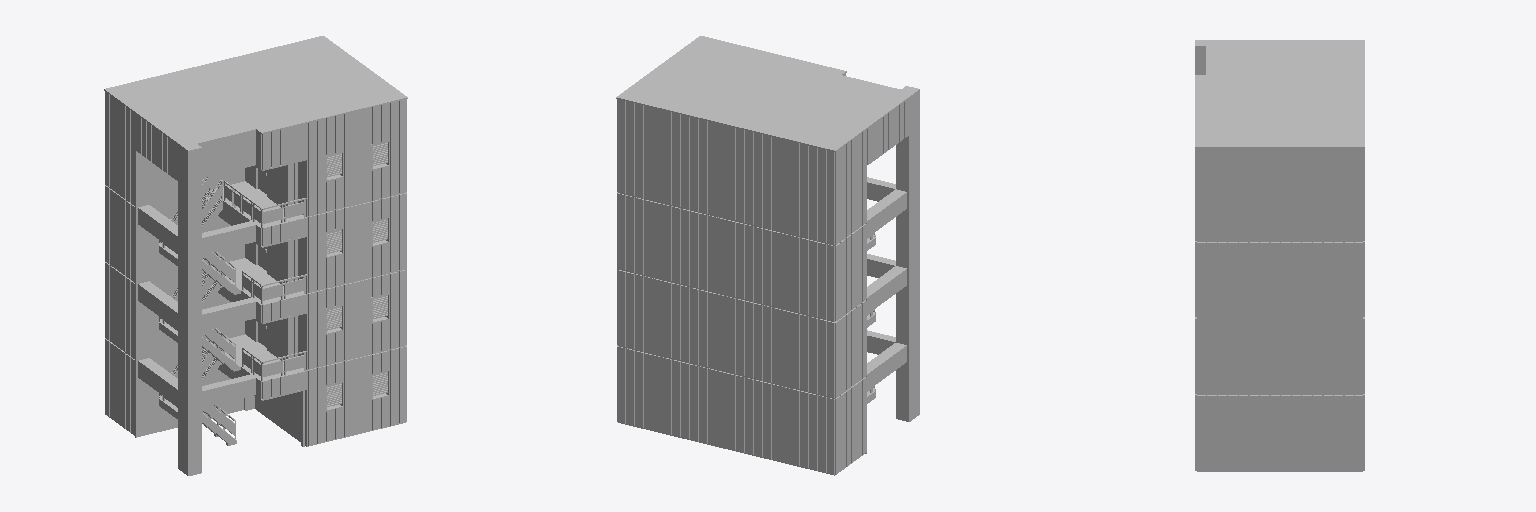
Rendered from villa_4floor.obj.
3 views of the same model, side by side, from view 1: azimuth 30°, elevation 25°; view 2: azimuth 150°, elevation 25°; view 3: azimuth 270°, elevation 25° (orthographic).
Visible parts, largest first — view 1: minecraft_concrete_silver_-1, minecraft_concrete_black_-1, minecraft_glass_white_-1, minecraft_concrete_gray_-1; view 2: minecraft_concrete_silver_-1, minecraft_concrete_black_-1; view 3: minecraft_concrete_silver_-1, minecraft_concrete_black_-1.
Boxes of the visible parts, x1=… form: minecraft_concrete_silver_-1: x1=105, y1=91, x2=406, y2=475; minecraft_concrete_black_-1: x1=104, y1=36, x2=407, y2=445; minecraft_glass_white_-1: x1=174, y1=177, x2=303, y2=433; minecraft_concrete_gray_-1: x1=202, y1=169, x2=266, y2=413; minecraft_concrete_silver_-1: x1=617, y1=73, x2=919, y2=475; minecraft_concrete_black_-1: x1=616, y1=36, x2=919, y2=403; minecraft_concrete_silver_-1: x1=1195, y1=48, x2=1364, y2=471; minecraft_concrete_black_-1: x1=1195, y1=40, x2=1364, y2=147.
Size of the model in its own units: 12 by 17 by 8.